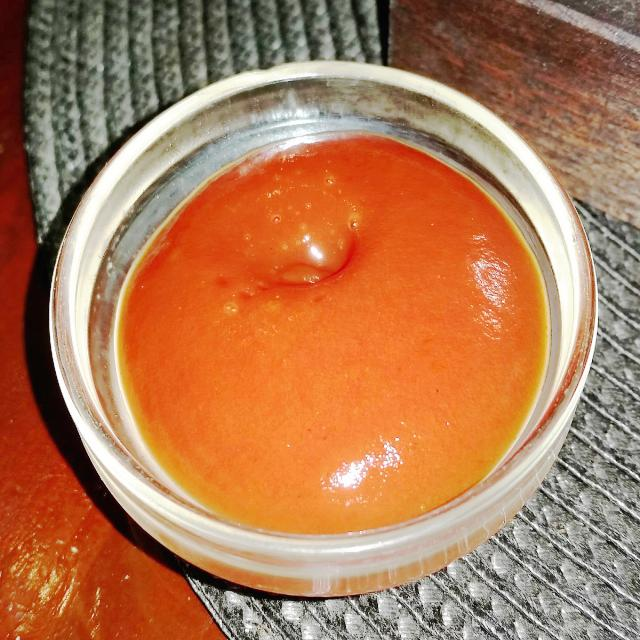ketchup: (113, 127, 547, 538)
